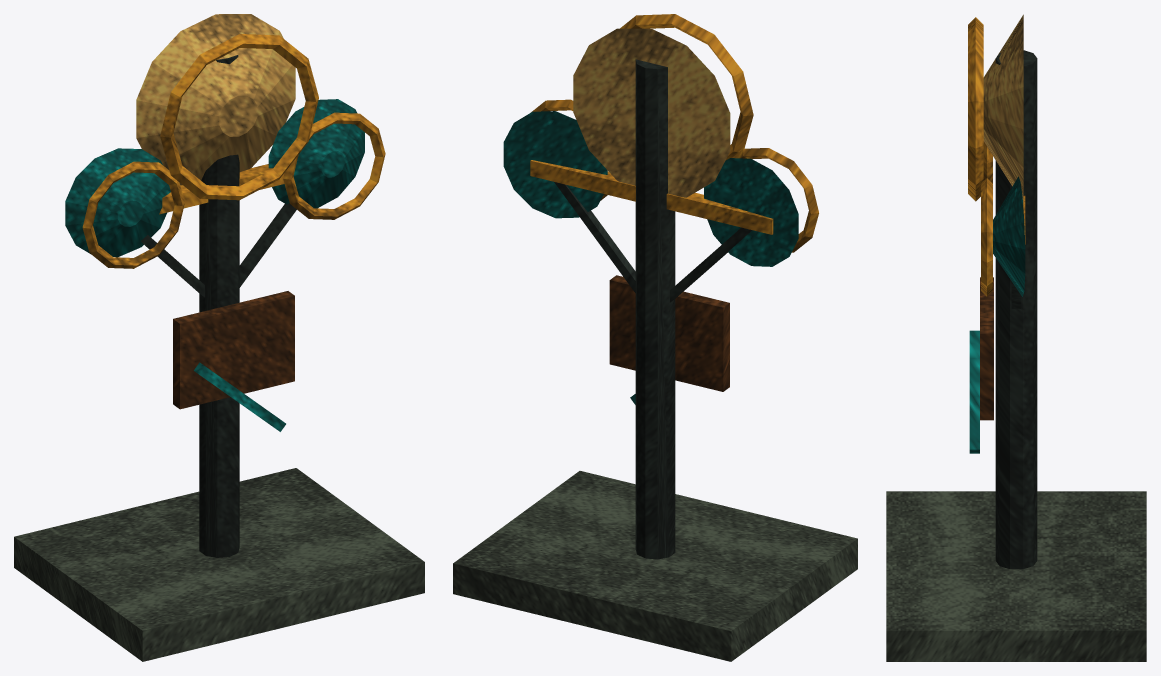
The model's file is rush-start-horn.glb.
3 views of the same model, side by side, from view 1: azimuth 30°, elevation 25°; view 2: azimuth 150°, elevation 25°; view 3: azimuth 270°, elevation 25° (orthographic). The views are drawn at different scales.
Parts seen in each view (by area): view 1: rush-start-horn; view 2: rush-start-horn; view 3: rush-start-horn.
Part boxes in pixels (box(x1,y1,x2,y2)): rush-start-horn: box(14, 14, 424, 661); rush-start-horn: box(453, 14, 857, 661); rush-start-horn: box(886, 14, 1146, 661).
Bounding box in the file's own units: 4.08 × 7.25 × 3.
1 material, 1 textured.
